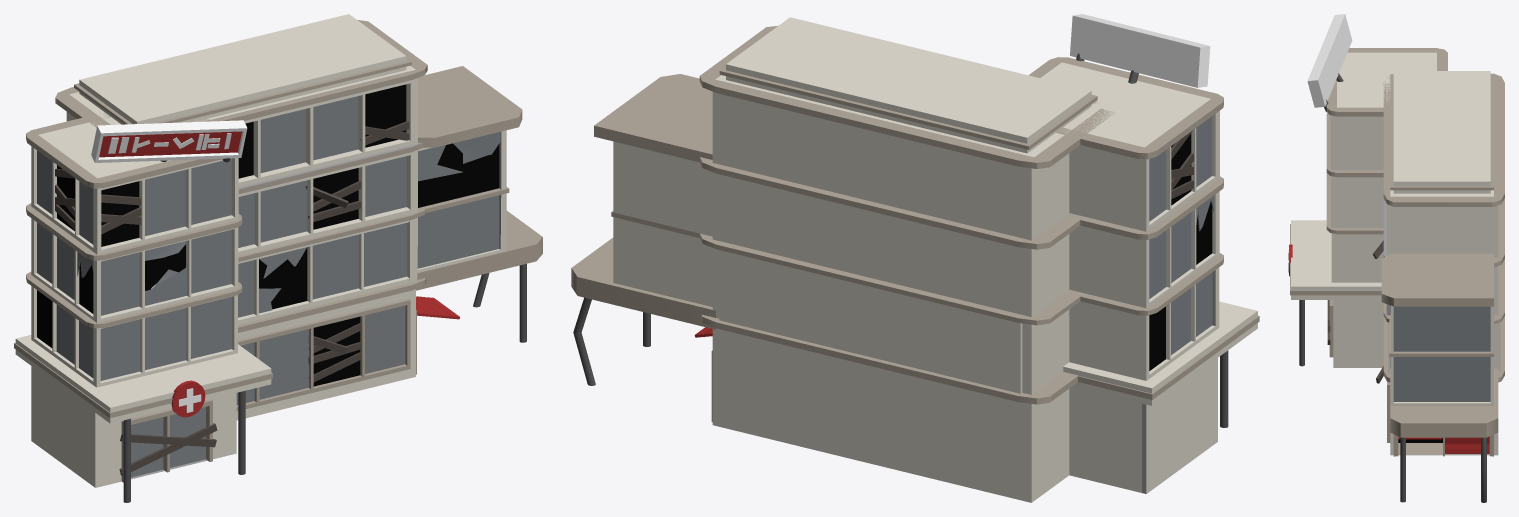
Rendered from HospitalUNITY.fbx.
3 renders of one model, left to right at view 1: azimuth 30°, elevation 25°; view 2: azimuth 150°, elevation 25°; view 3: azimuth 270°, elevation 25°, orthographic. The views are drawn at different scales.
Visible parts, largest first — view 1: pasted__pCube40; view 2: pasted__pCube40; view 3: pasted__pCube40.
Part boxes in pixels (x1,y1,x2,y2): pasted__pCube40: (14, 14, 542, 502); pasted__pCube40: (571, 14, 1259, 502); pasted__pCube40: (1288, 14, 1504, 502).
Bounding box in the file's own units: 77.25 × 53.06 × 34.52.
